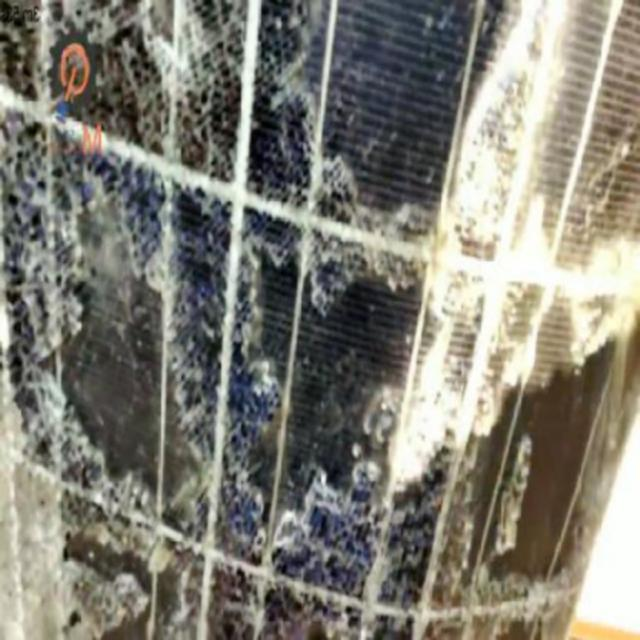cracked: (6, 3, 620, 640)
